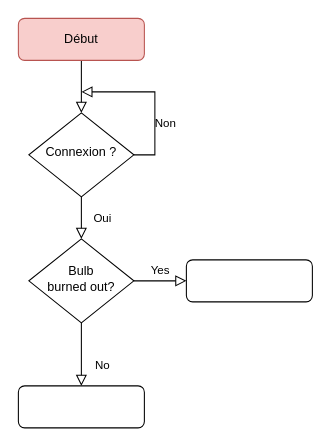
The diagram is 331 pixels wide and 446 high, and some of its shapes have lost their labels. The box of each missing label's shape, as (x1, y1, x2, y2) in pixels:
Repair Lamp: (17, 385, 144, 428)
Replace Bulb: (185, 259, 312, 302)
